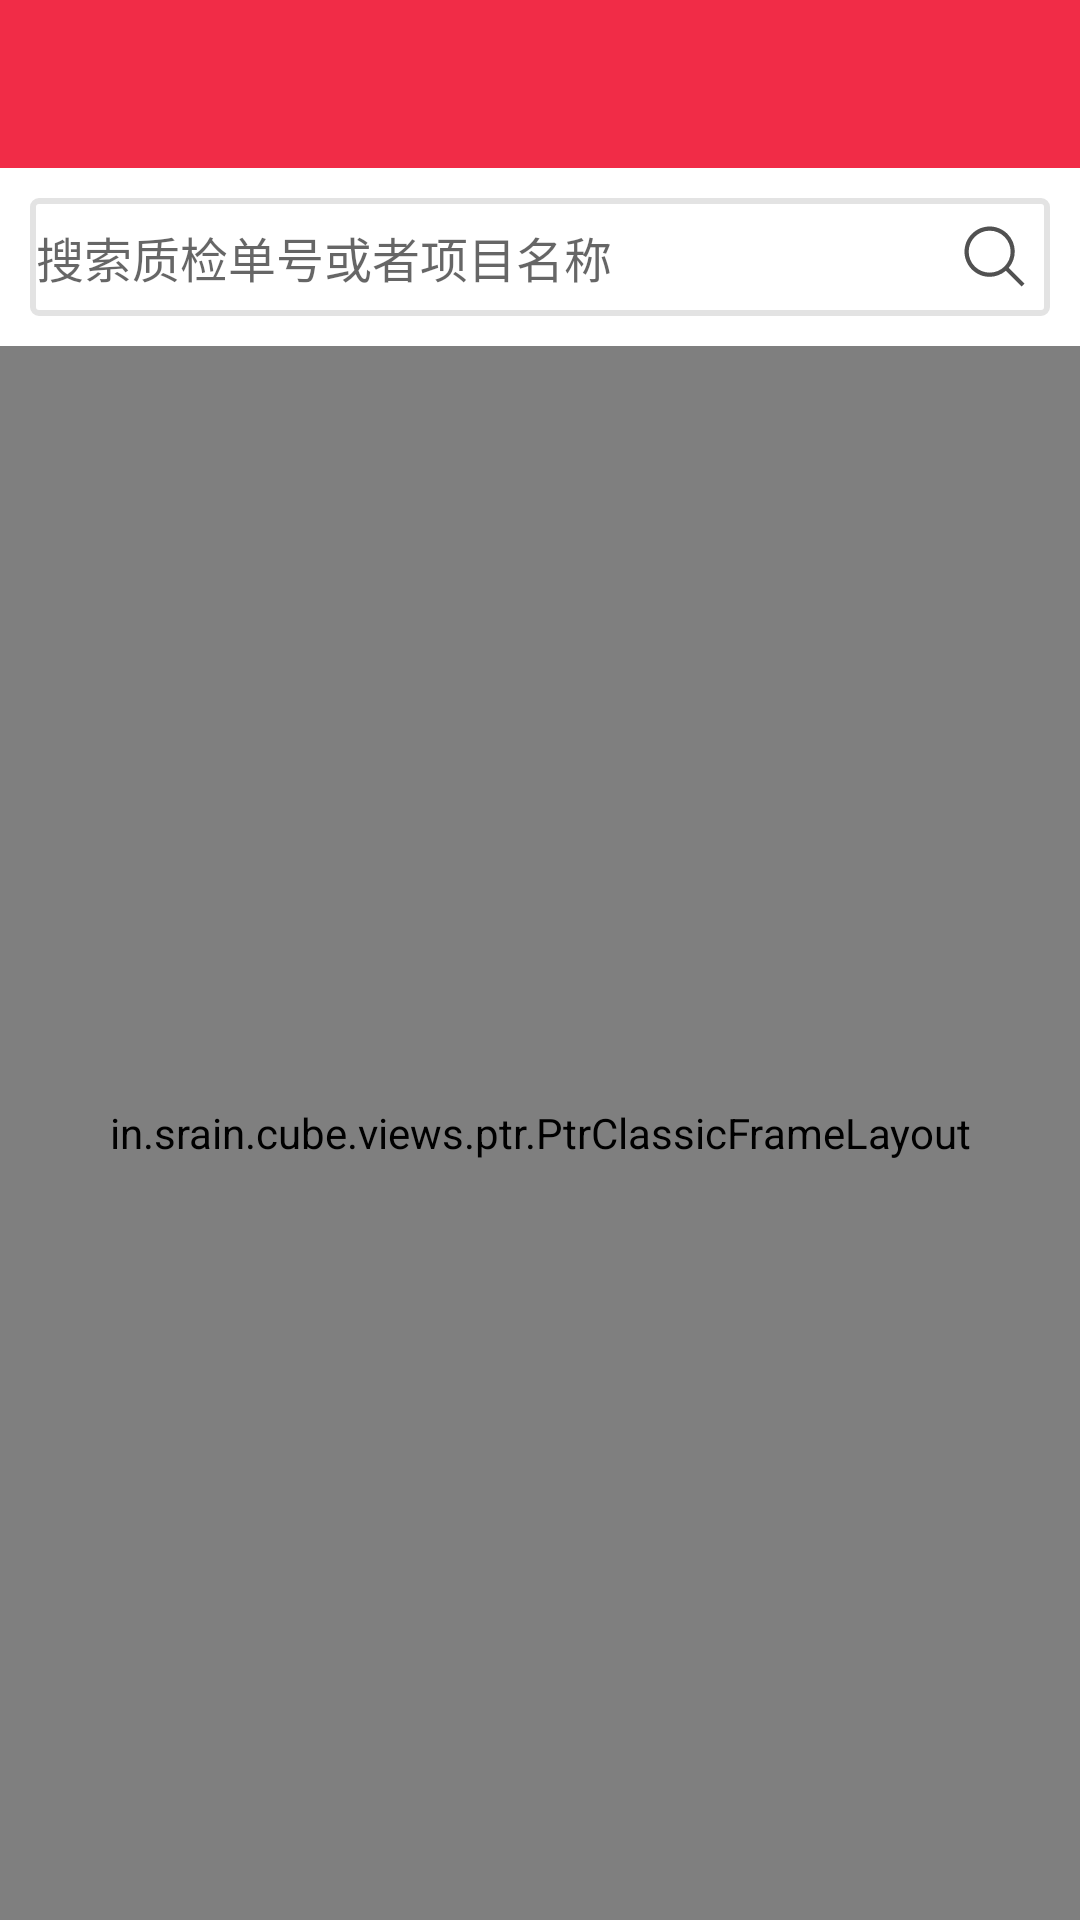

Locate icon controls on the screen. Image size 1080*1920, boxes as (x1, y1, x2, y2).
search: (964, 226, 1025, 287)
